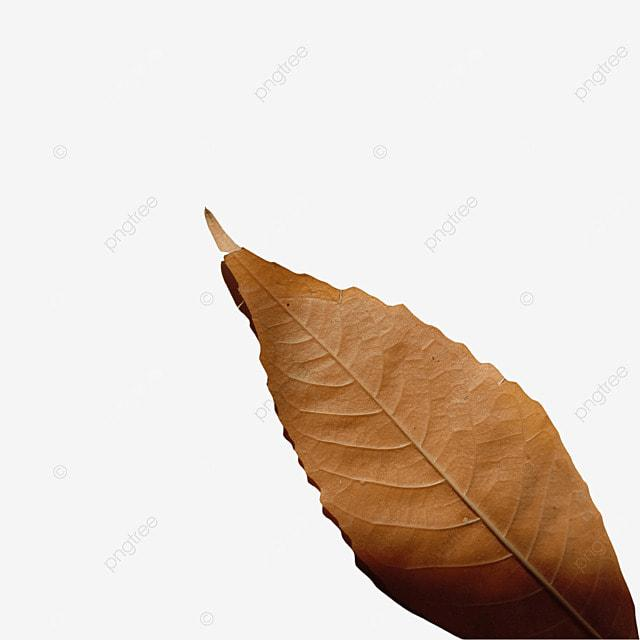Organik: (194, 204, 640, 640)
